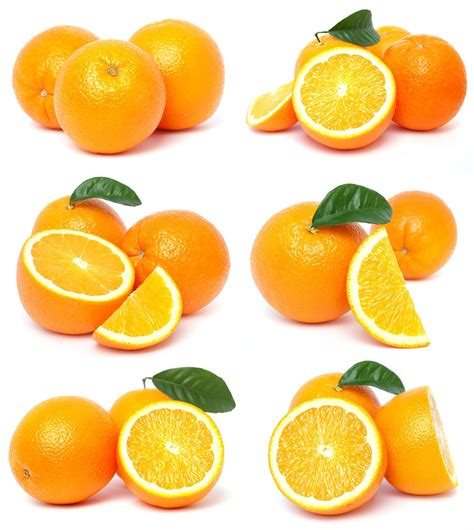orange: (249, 200, 357, 328), (53, 37, 168, 156), (8, 394, 123, 507), (121, 17, 230, 132), (122, 207, 234, 307), (14, 23, 106, 132), (379, 33, 469, 135)
